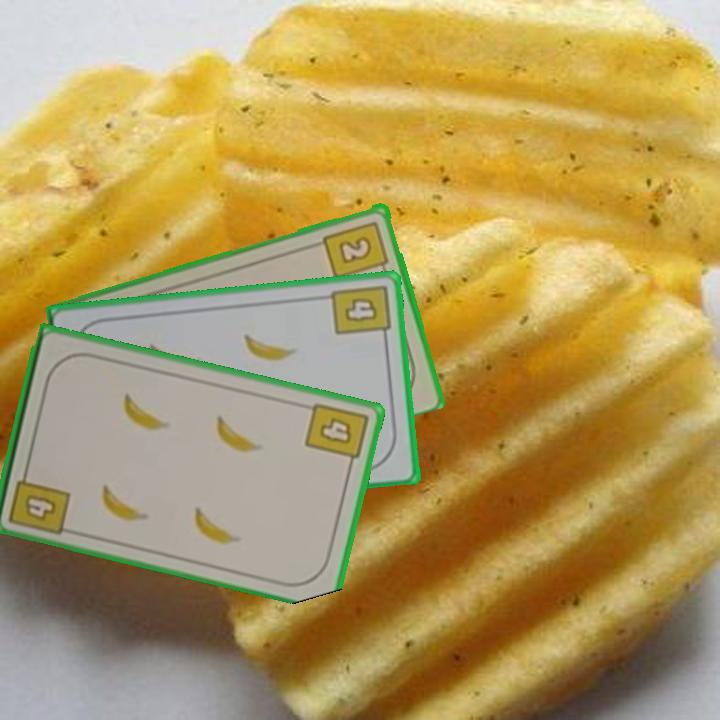2b: (320, 217, 392, 282)
4b: (301, 398, 371, 472), (4, 463, 73, 538), (328, 280, 393, 345)
